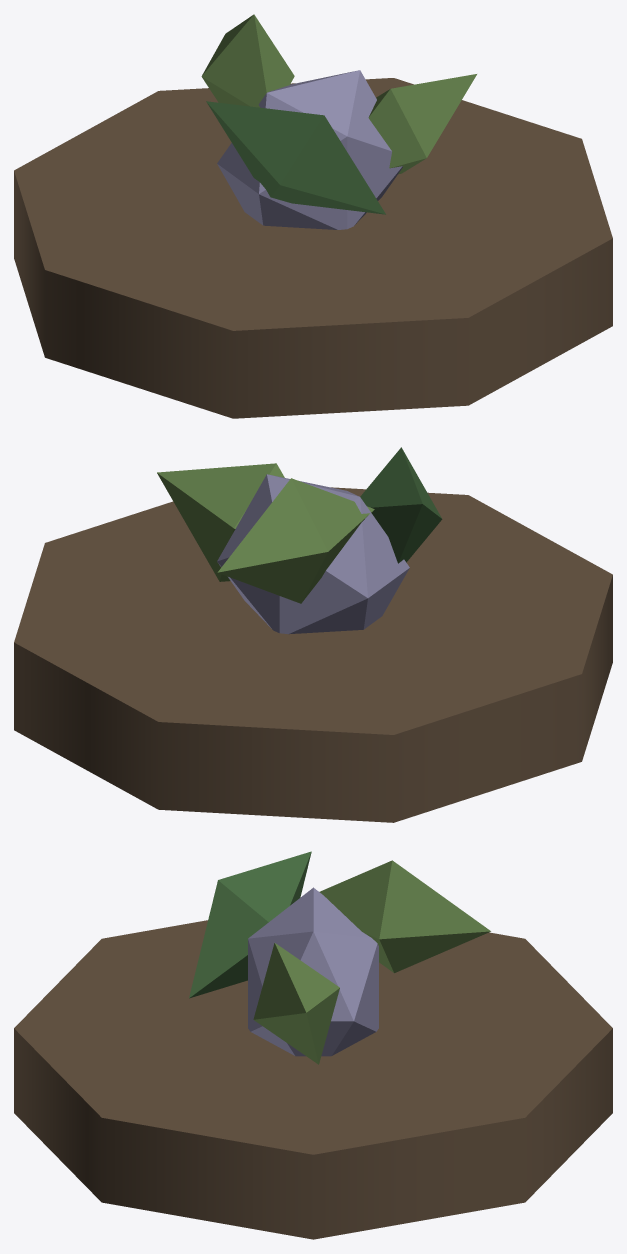
The model's file is plant-lavender-0.glb.
The picture shows the model from 3 angles, top to bottom: view 1: azimuth 30°, elevation 25°; view 2: azimuth 150°, elevation 25°; view 3: azimuth 270°, elevation 25°; orthographic projection. The views are drawn at different scales.
Visible parts, largest first — view 1: plant-lavender-0-visual; view 2: plant-lavender-0-visual; view 3: plant-lavender-0-visual.
Part boxes in pixels (x1,y1,x2,y2): plant-lavender-0-visual: [14, 14, 612, 418]; plant-lavender-0-visual: [14, 447, 612, 822]; plant-lavender-0-visual: [14, 851, 612, 1239].
Bounding box in the file's own units: 0.32 × 0.1438 × 0.32.
